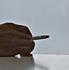smoke: (31, 34, 49, 39)
